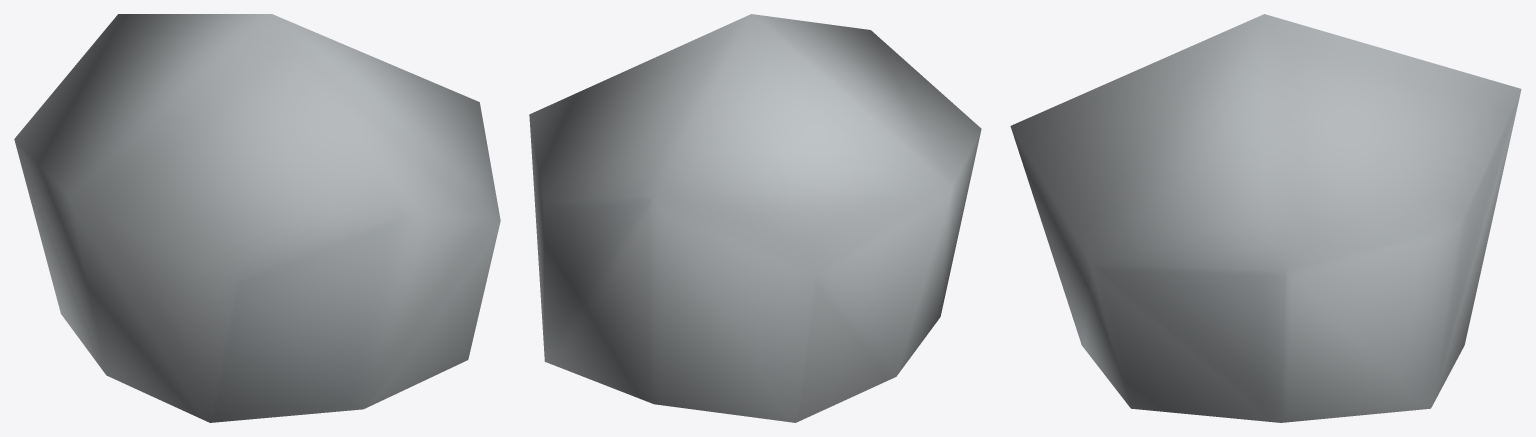
Rendered from Pedra_Redonda_1.fbx.
3 renders of one model, left to right at view 1: azimuth 30°, elevation 25°; view 2: azimuth 150°, elevation 25°; view 3: azimuth 270°, elevation 25°, orthographic. The views are drawn at different scales.
Visible parts, largest first — view 1: Pedra_1; view 2: Pedra_1; view 3: Pedra_1.
Boxes of the visible parts, <box> form: Pedra_1: <box>14,14,500,422</box>; Pedra_1: <box>529,14,981,422</box>; Pedra_1: <box>1010,14,1521,422</box>.
Bounding box in the file's own units: 34.4 × 25.59 × 35.81.
